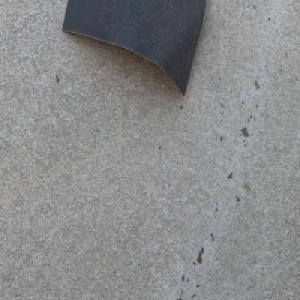PaintChip: (61, 0, 207, 97)
